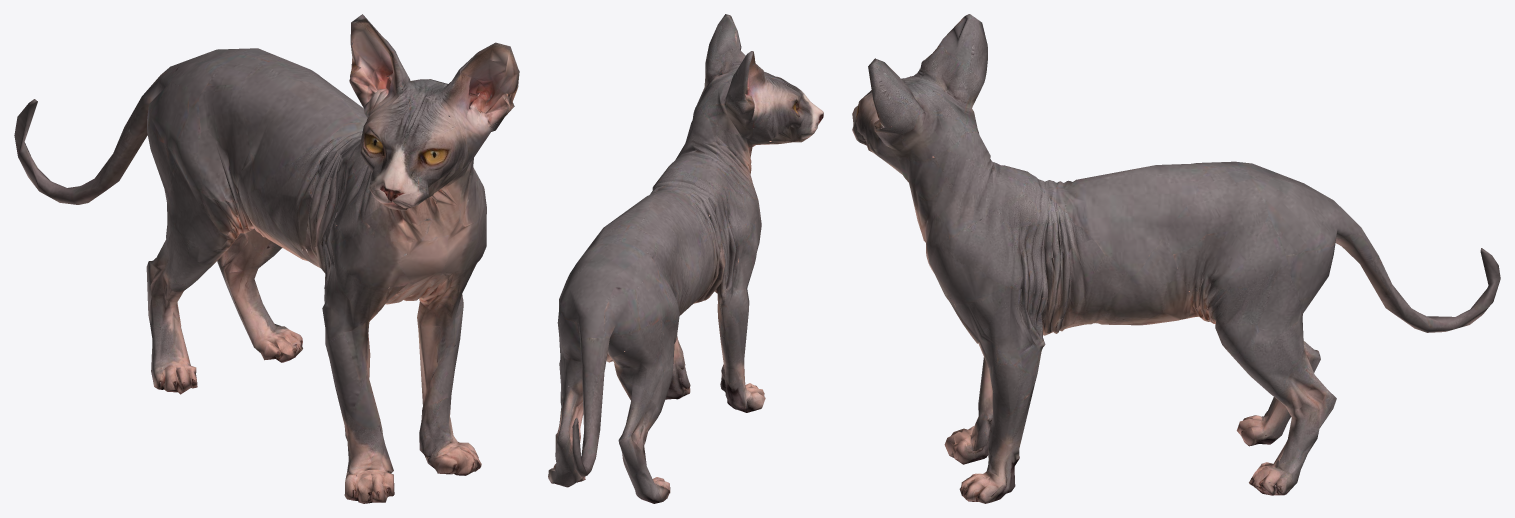
File: bicolor-sphynx-cat.glb
The picture shows the model from 3 angles, left to right: view 1: azimuth 30°, elevation 25°; view 2: azimuth 150°, elevation 25°; view 3: azimuth 270°, elevation 25°; orthographic projection. The views are drawn at different scales.
Parts seen in each view (by area): view 1: bicolor-sphynx-cat; view 2: bicolor-sphynx-cat; view 3: bicolor-sphynx-cat.
Boxes of the visible parts, left/top/right/bottom form: bicolor-sphynx-cat: left=14, top=14, right=519, bottom=503; bicolor-sphynx-cat: left=548, top=14, right=823, bottom=503; bicolor-sphynx-cat: left=852, top=14, right=1500, bottom=503.
Bounding box in the file's own units: 0.1461 × 0.3729 × 0.4999.
Materials: 1 (1 with a texture image).
